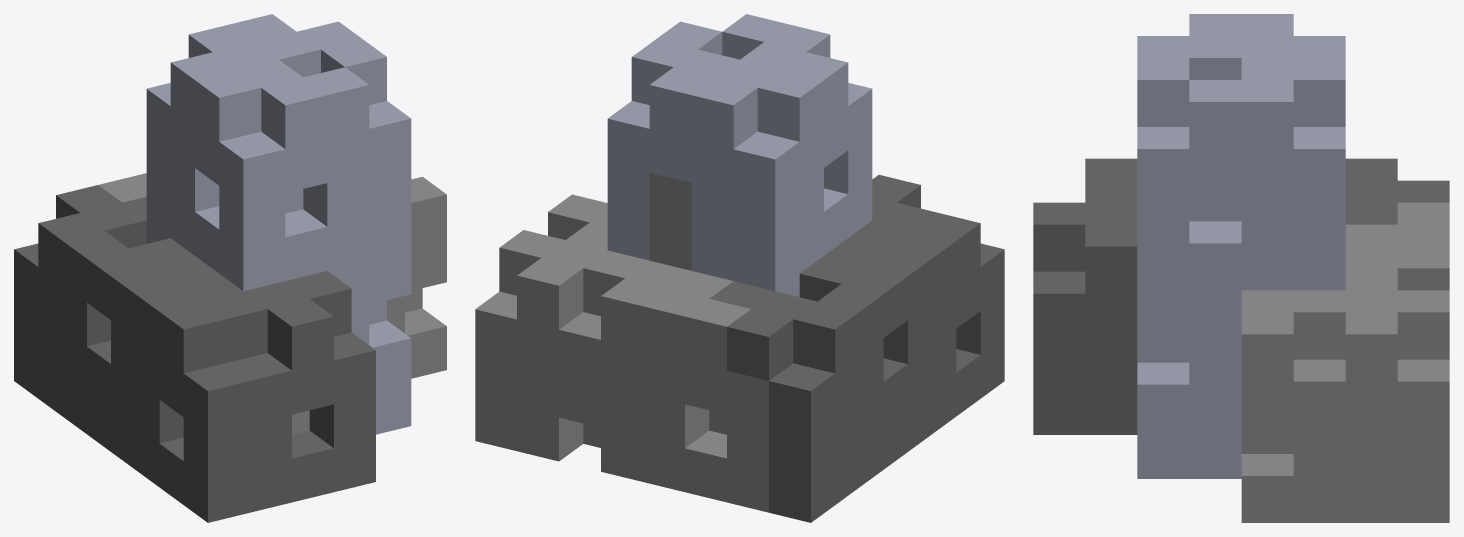
The model's file is Medieval Assets-305-Resource - Mine Node - Base.obj.
3 views of the same model, side by side, from view 1: azimuth 30°, elevation 25°; view 2: azimuth 150°, elevation 25°; view 3: azimuth 270°, elevation 25° (orthographic). The views are drawn at different scales.
Visible parts, largest first — view 1: Resource - Mine Node - Base; view 2: Resource - Mine Node - Base; view 3: Resource - Mine Node - Base.
Boxes of the visible parts, left/top/right/bottom form: Resource - Mine Node - Base: left=14, top=14, right=446, bottom=522; Resource - Mine Node - Base: left=475, top=14, right=1004, bottom=522; Resource - Mine Node - Base: left=1033, top=14, right=1449, bottom=522.
Size of the model in its own units: 0.8 by 0.8 by 0.8.
1 material, 1 textured.
